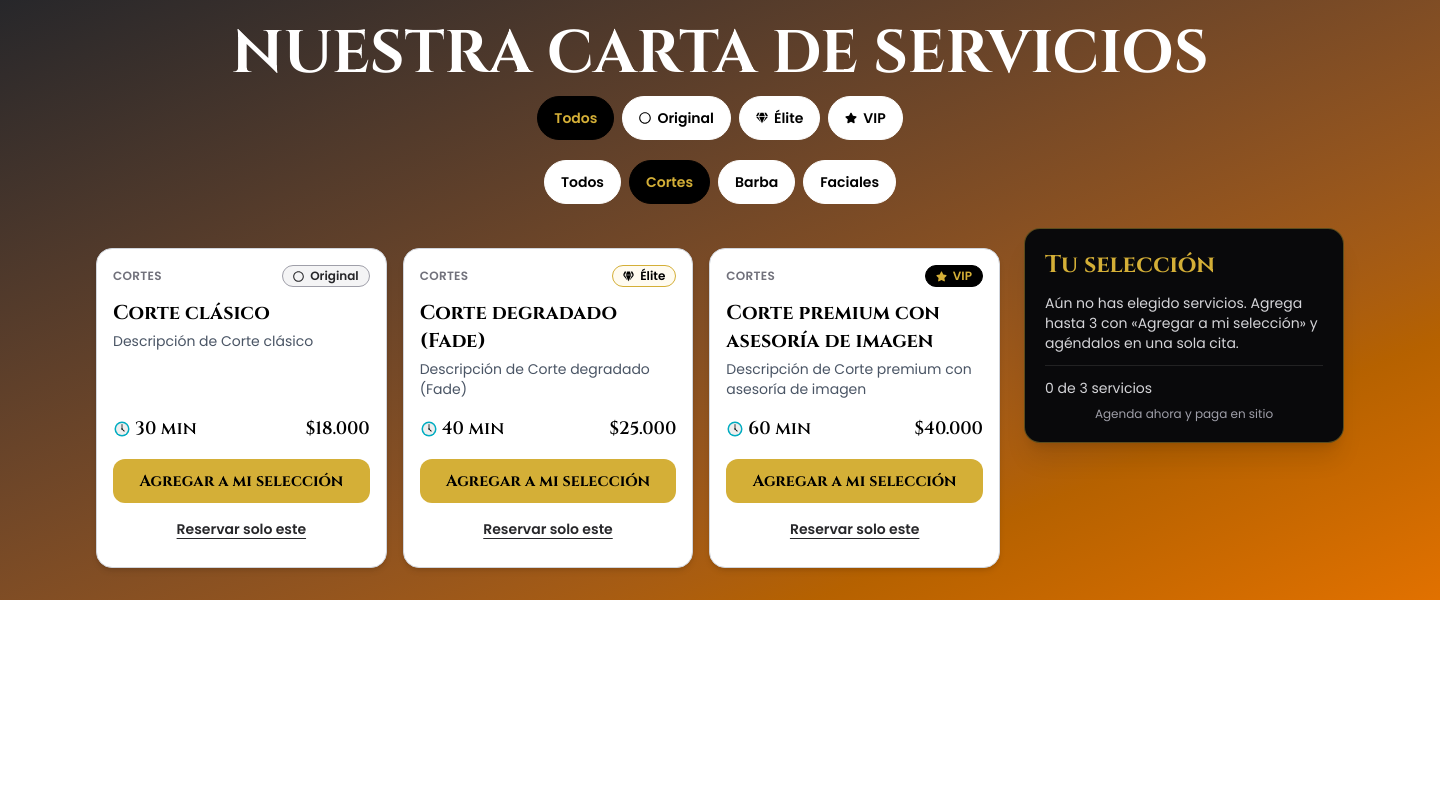
it: CatalogoServicios › cambiar de categoría filtra las tarjetas, sin encabezados
The image size is (1440, 810).
Expected: the element named "Filtrar servicios" is shown, [537, 96, 903, 204]
Click the button "Barba" at x=757, y=182, box [718, 160, 795, 204]
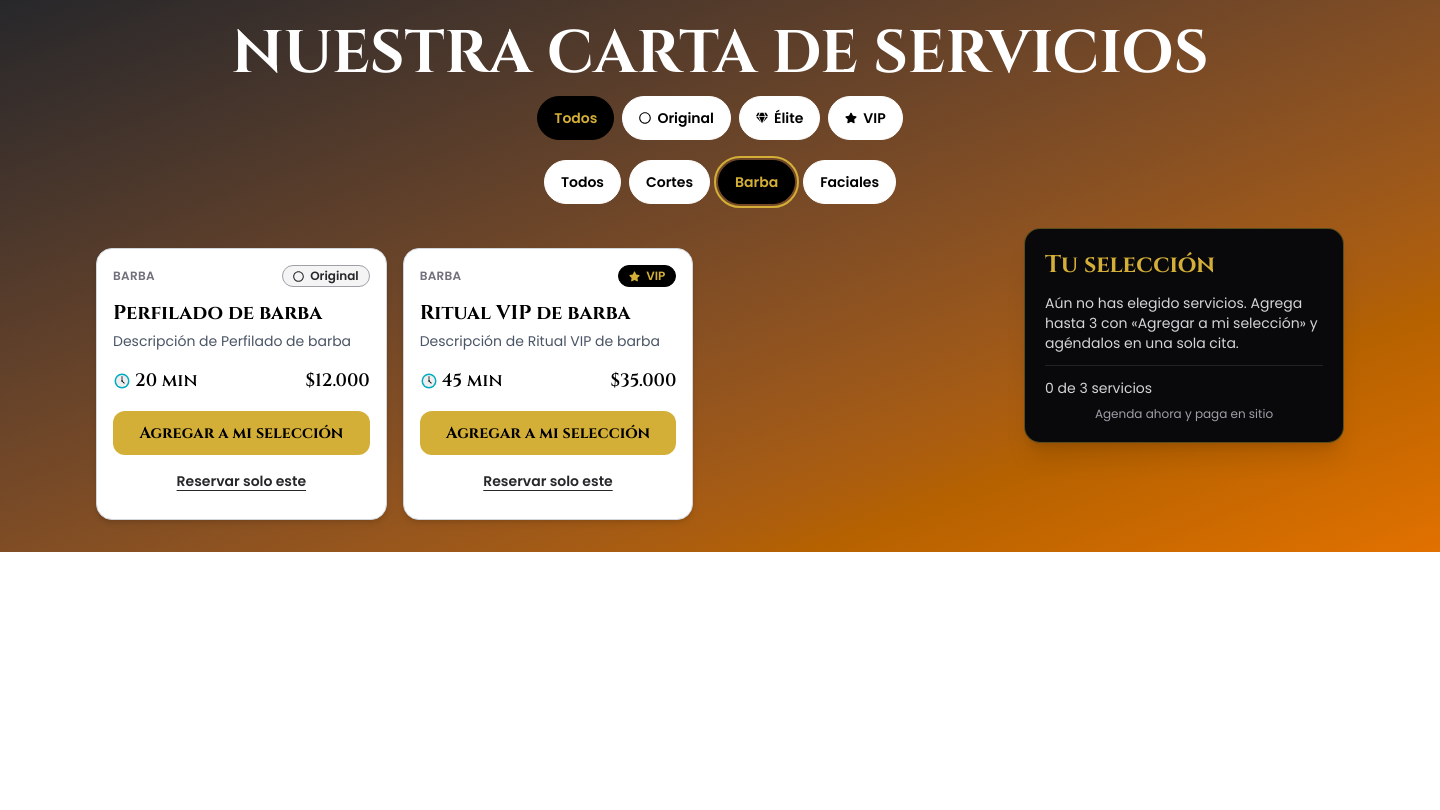
Expected: the heading "Perfilado de barba" is shown, [113, 299, 322, 326]
Expected: the heading "Corte clásico" is gone
